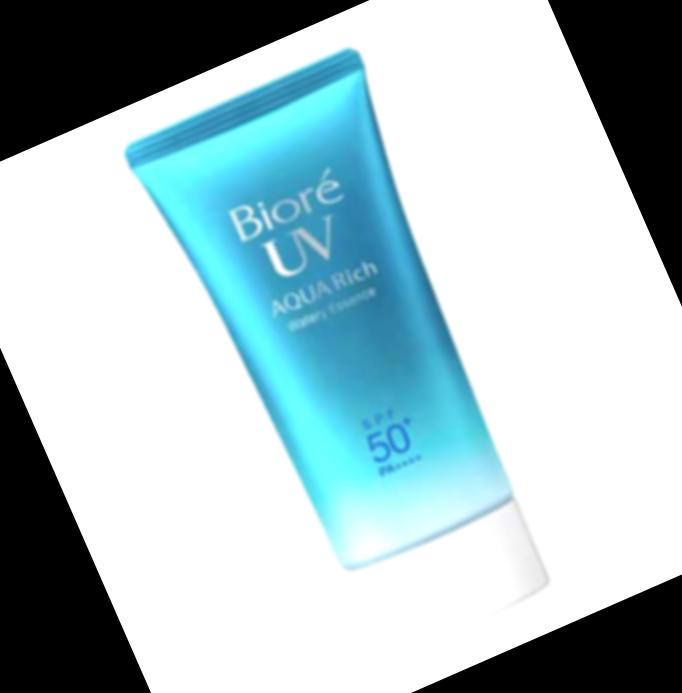cosmetic: (117, 41, 588, 678)
